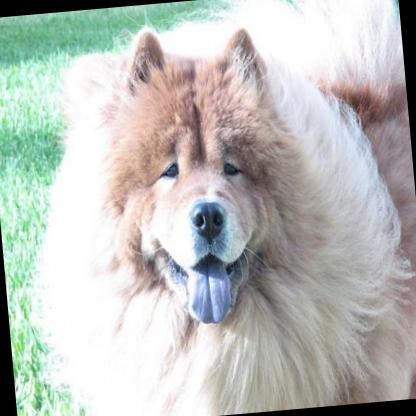chow: (11, 0, 416, 416)
